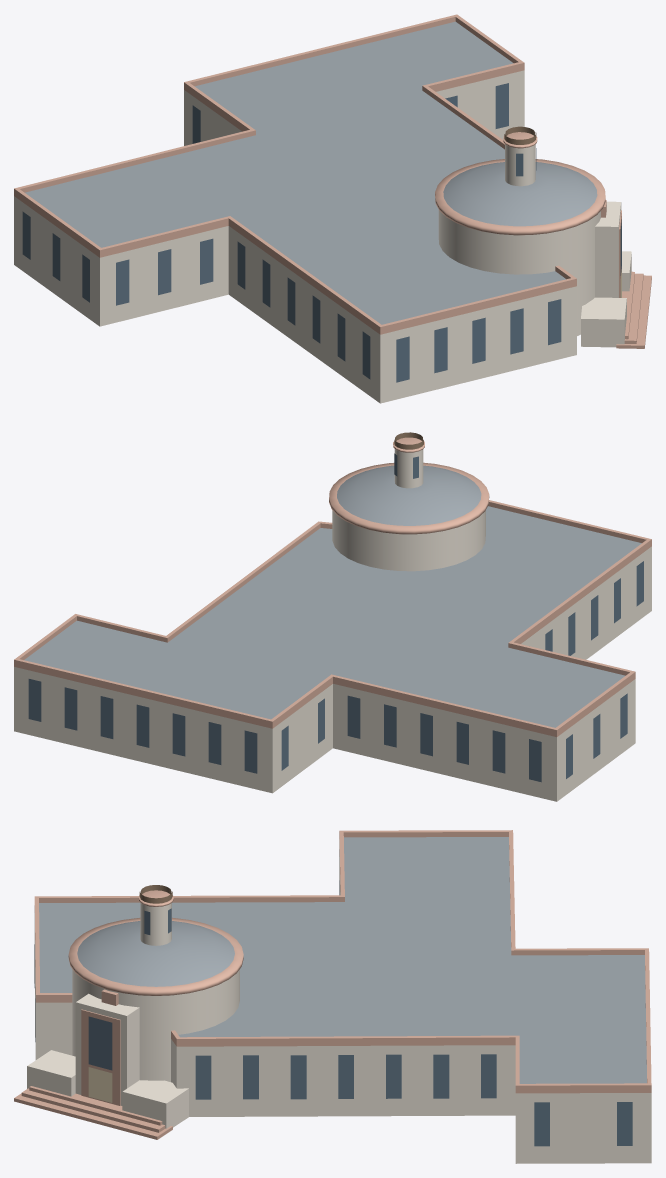
File: mia-miami-beach-post-office.glb
3 renders of one model, top to bottom at view 1: azimuth 30°, elevation 25°; view 2: azimuth 150°, elevation 25°; view 3: azimuth 270°, elevation 25°, orthographic. The views are drawn at different scales.
Visible parts, largest first — view 1: Miami Beach Post Office; view 2: Miami Beach Post Office; view 3: Miami Beach Post Office.
Part boxes in pixels (bbox=[...]): Miami Beach Post Office: bbox=[14, 14, 651, 403]; Miami Beach Post Office: bbox=[14, 432, 651, 801]; Miami Beach Post Office: bbox=[14, 830, 651, 1163].
Size of the model in its own units: 49.88 by 16.6 by 52.54.
